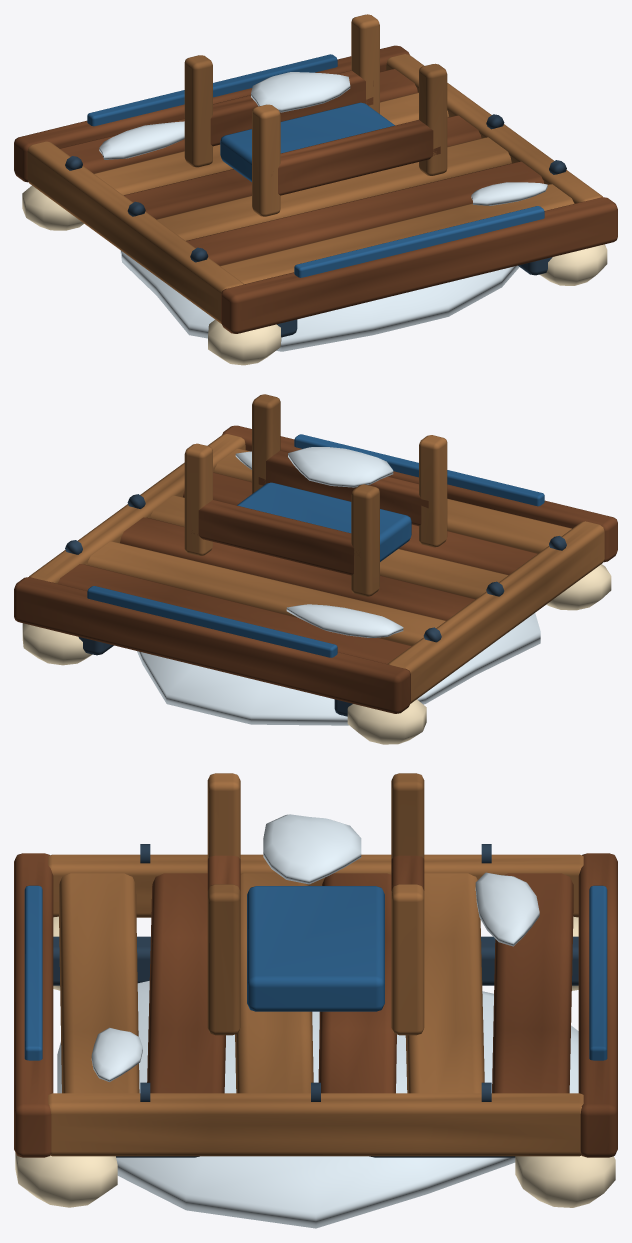
The model's file is pad_stock.glb.
3 views of the same model, one above another, from view 1: azimuth 30°, elevation 25°; view 2: azimuth 150°, elevation 25°; view 3: azimuth 270°, elevation 25° (orthographic). The views are drawn at different scales.
Parts seen in each view (by area): view 1: pad_stock; view 2: pad_stock; view 3: pad_stock.
Part boxes in pixels (bbox=[...]): pad_stock: bbox=[14, 14, 617, 365]; pad_stock: bbox=[14, 394, 617, 744]; pad_stock: bbox=[14, 773, 617, 1228].
Size of the model in its own units: 1.91 by 0.9205 by 1.84.
